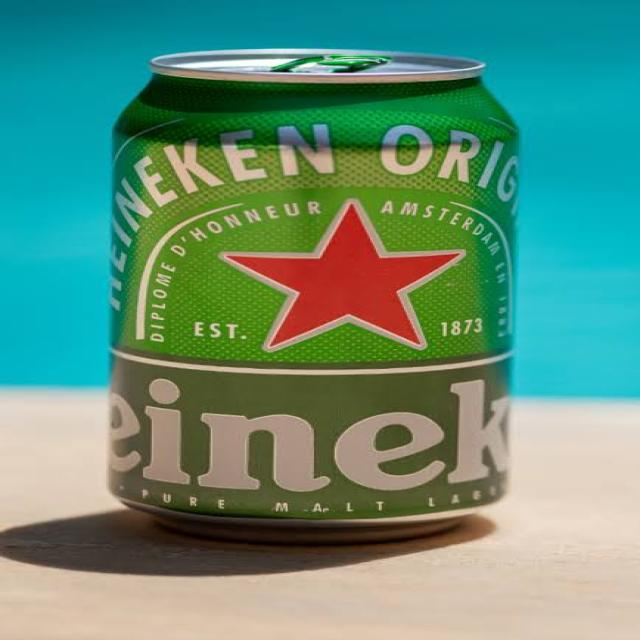can: (106, 27, 527, 540)
